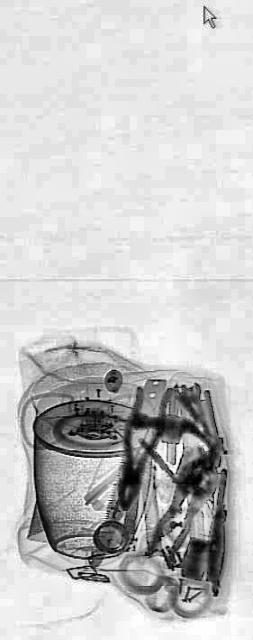Pliers: (107, 349, 173, 533)
